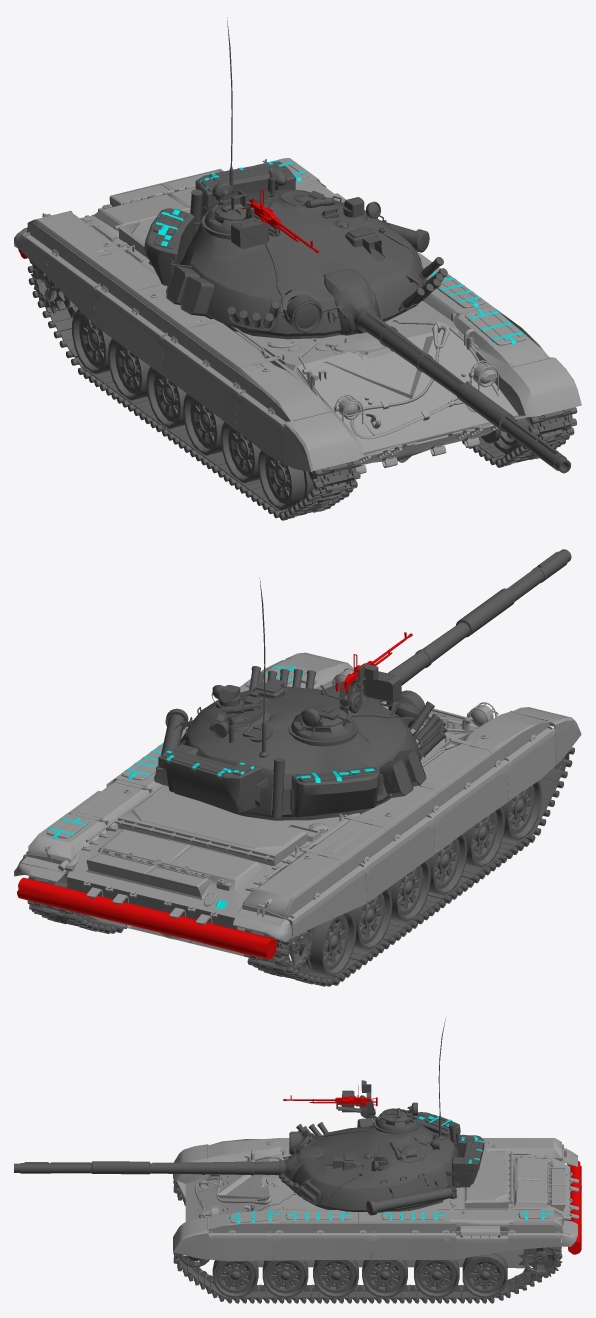
The picture shows the model from 3 angles, top to bottom: view 1: azimuth 30°, elevation 25°; view 2: azimuth 150°, elevation 25°; view 3: azimuth 270°, elevation 25°; orthographic projection. The views are drawn at different scales.
Parts seen in each view (by area): view 1: Hull1, Turret1, Tracks1, Mg, Strips1; view 2: Hull1, Turret1, Tracks1, Log, Strips1, Mg; view 3: Hull1, Turret1, Tracks1, Log, Strips1, Mg.
Boxes of the visible parts, <box> form: Hull1: <box>14,158,581,473</box>; Turret1: <box>144,17,571,473</box>; Tracks1: <box>27,259,577,520</box>; Mg: <box>242,189,318,253</box>; Strips1: <box>91,160,524,344</box>; Hull1: <box>14,652,581,956</box>; Turret1: <box>154,549,571,820</box>; Tracks1: <box>27,747,574,986</box>; Log: <box>17,877,276,959</box>; Strips1: <box>47,665,304,909</box>; Mg: <box>335,632,412,693</box>; Hull1: <box>173,1138,578,1268</box>; Turret1: <box>14,1019,484,1215</box>; Tracks1: <box>173,1179,562,1303</box>; Log: <box>568,1161,581,1254</box>; Strips1: <box>229,1167,566,1223</box>; Mg: <box>283,1085,377,1106</box>.
Size of the model in its own units: 296 by 367 by 786.
